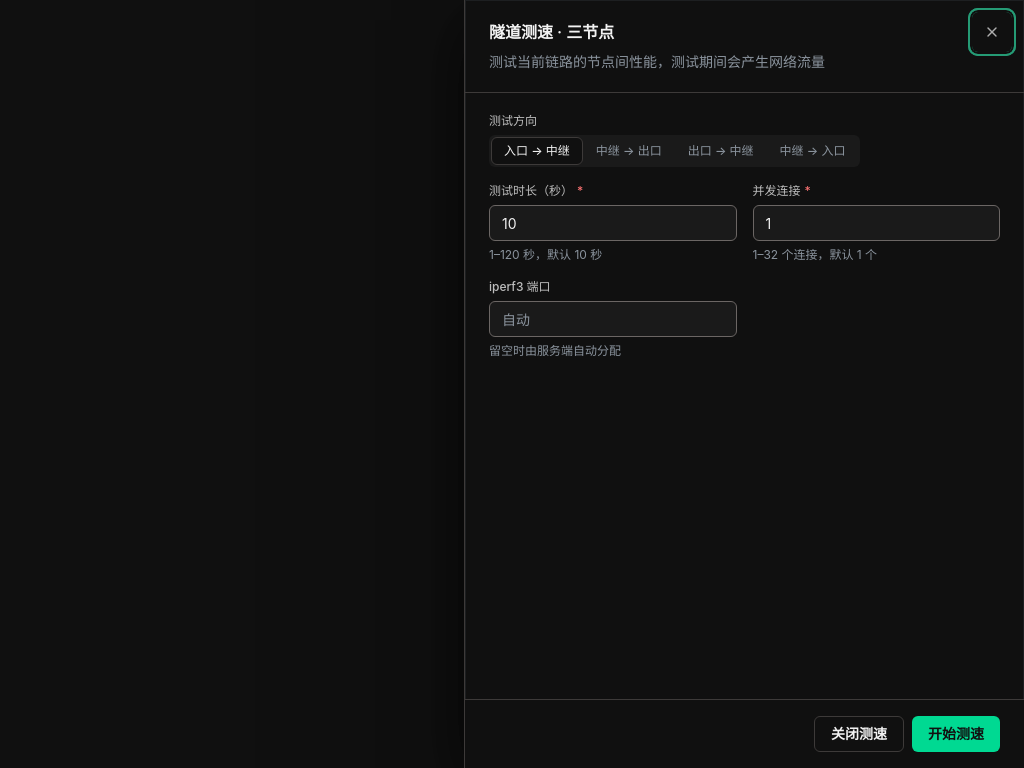
Test: 绑定隧道的测速抽屉 › 三节点四方向，时长清空提交显示字段错误且不发请求
Clear the field labelled "测试时长（秒）*". click: [613, 223]
box: [489,205,736,241]
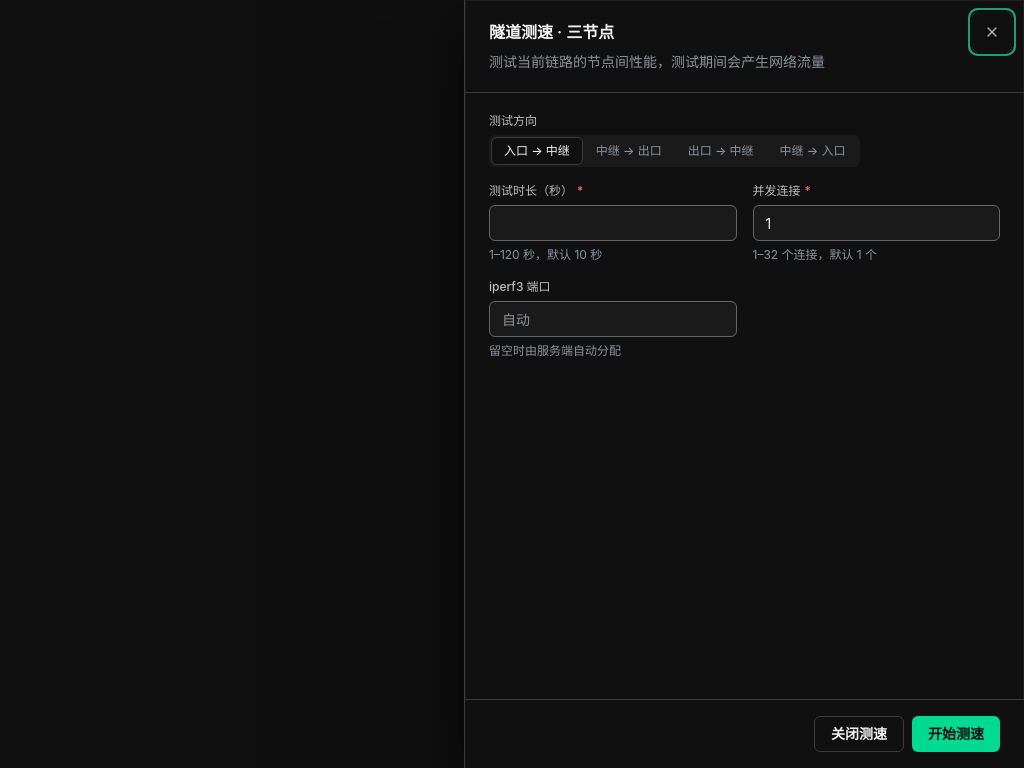
Click the button "开始测速". click: [956, 734]
box: [912,716,1000,752]
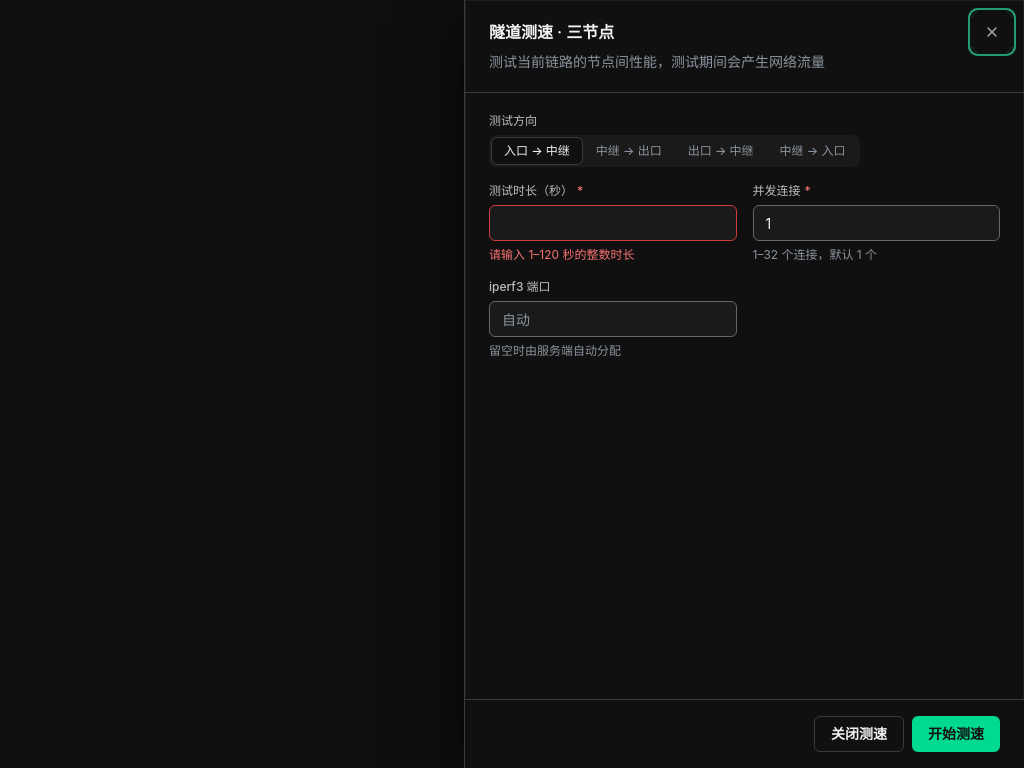
Check: the text "请输入 1–120 秒的整数时长" is shown, box [489,247,634,262]
